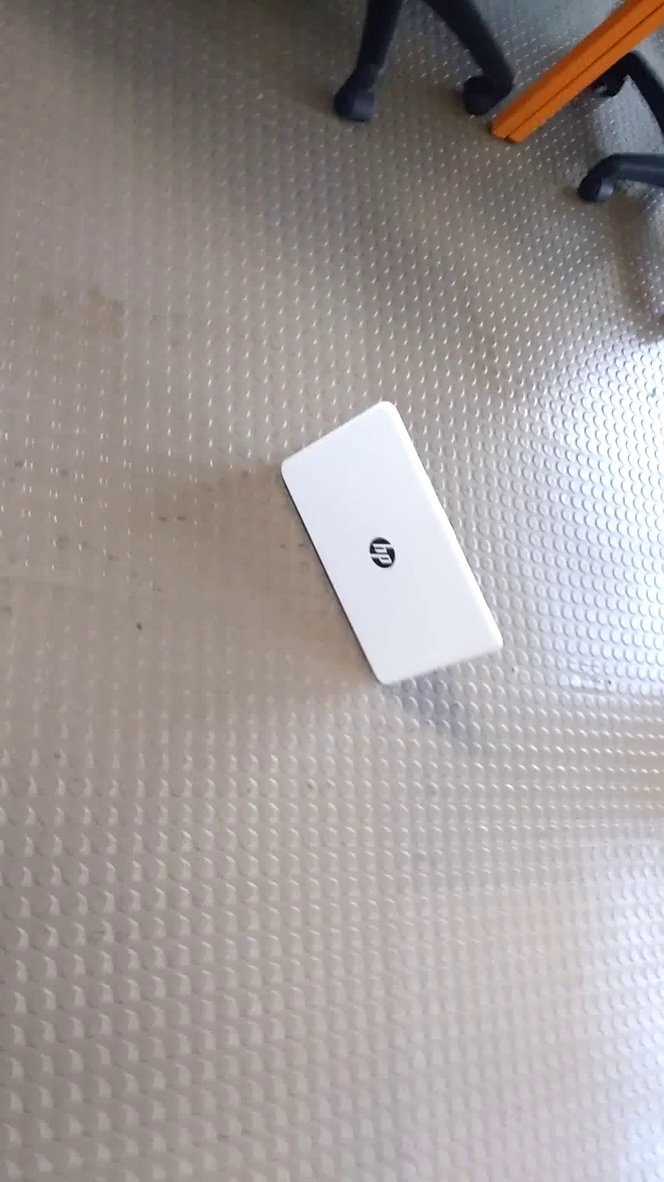laptop: (273, 392, 509, 692)
